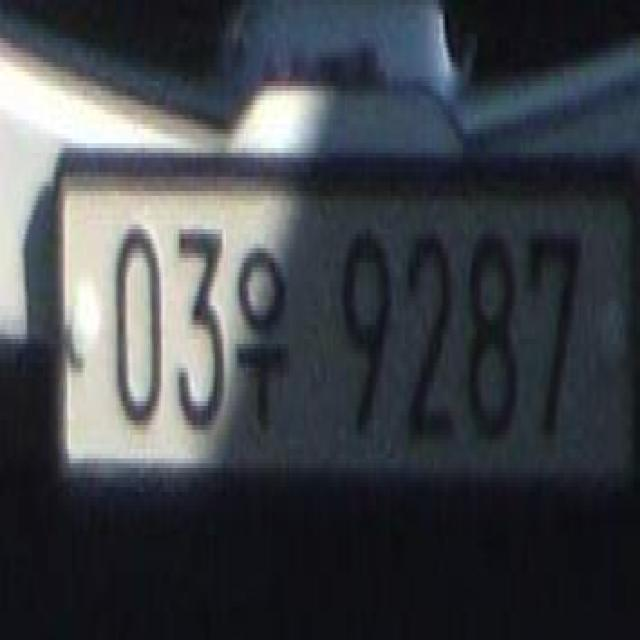illegal_plate: (46, 145, 640, 517)
